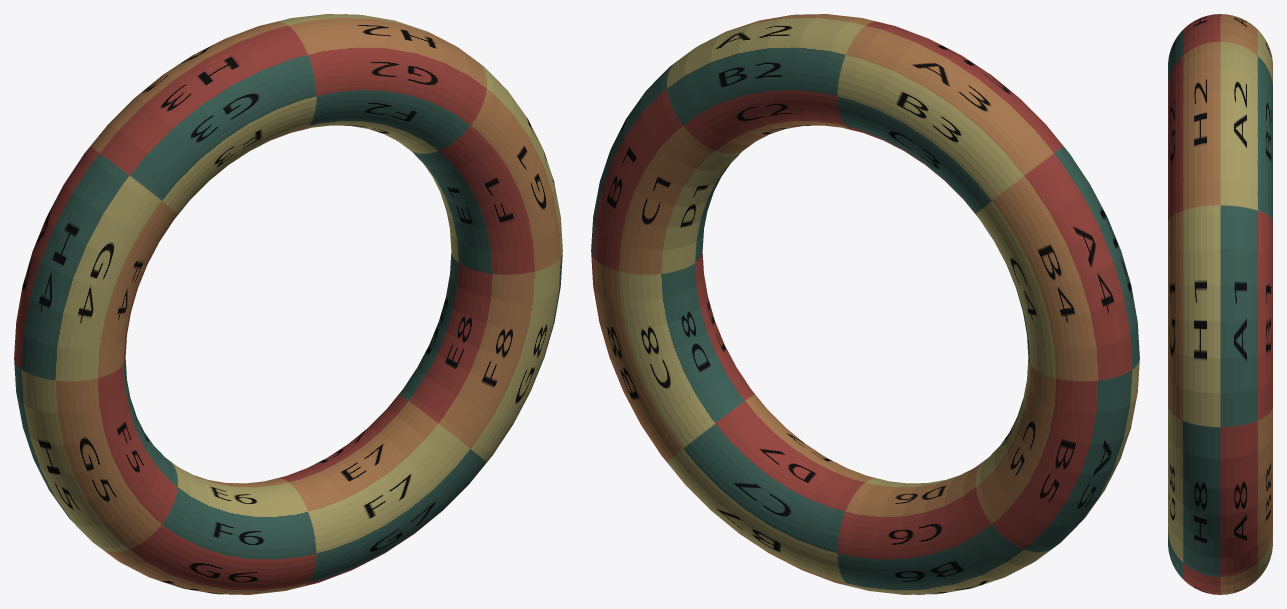
File: texture_torus_R4_r3.glb
3 renders of one model, left to right at view 1: azimuth 30°, elevation 25°; view 2: azimuth 150°, elevation 25°; view 3: azimuth 270°, elevation 25°, orthographic. The views are drawn at different scales.
Visible parts, largest first — view 1: world; view 2: world; view 3: world.
Part boxes in pixels (box(x1,y1,x2,y2)): world: box(14, 14, 562, 594); world: box(591, 14, 1139, 594); world: box(1168, 14, 1272, 594).
Size of the model in its own units: 15.47 by 15.44 by 2.79.
Materials: 1 (1 with a texture image).
